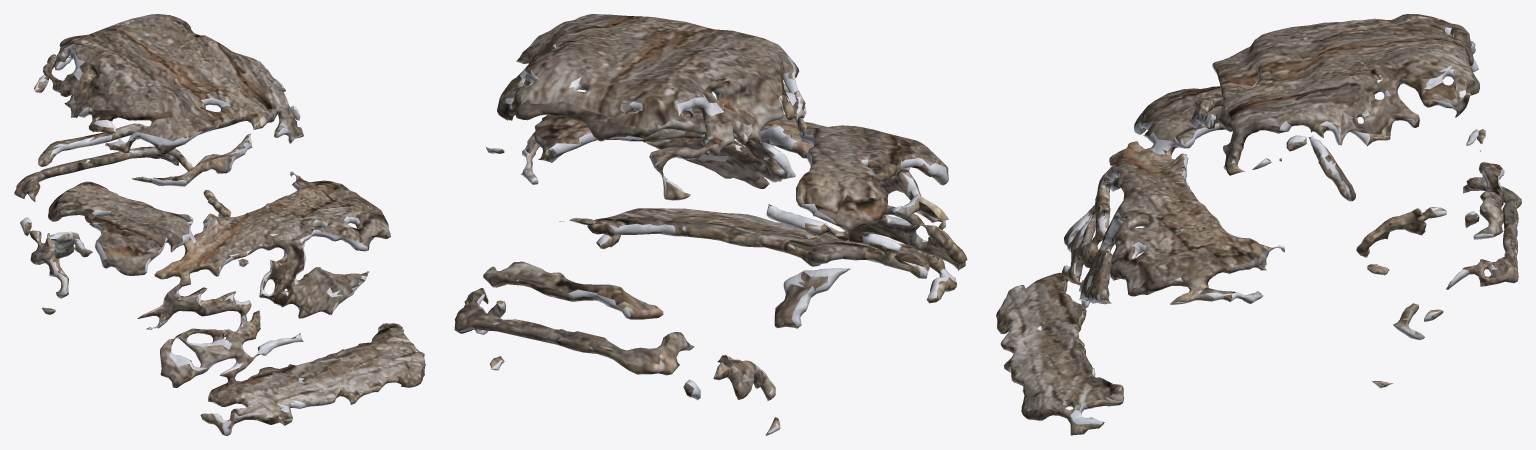
File: CW_HF_Limestone_SnowCover.fbx
3 renders of one model, left to right at view 1: azimuth 30°, elevation 25°; view 2: azimuth 150°, elevation 25°; view 3: azimuth 270°, elevation 25°, orthographic. The views are drawn at different scales.
Parts seen in each view (by area): view 1: CW_HF_Limestone_SnowCover; view 2: CW_HF_Limestone_SnowCover; view 3: CW_HF_Limestone_SnowCover.
Part boxes in pixels (bbox=[...]): CW_HF_Limestone_SnowCover: bbox=[14, 14, 425, 435]; CW_HF_Limestone_SnowCover: bbox=[454, 14, 967, 435]; CW_HF_Limestone_SnowCover: bbox=[996, 14, 1521, 435].
Size of the model in its own units: 5.1 by 4.57 by 6.86.
